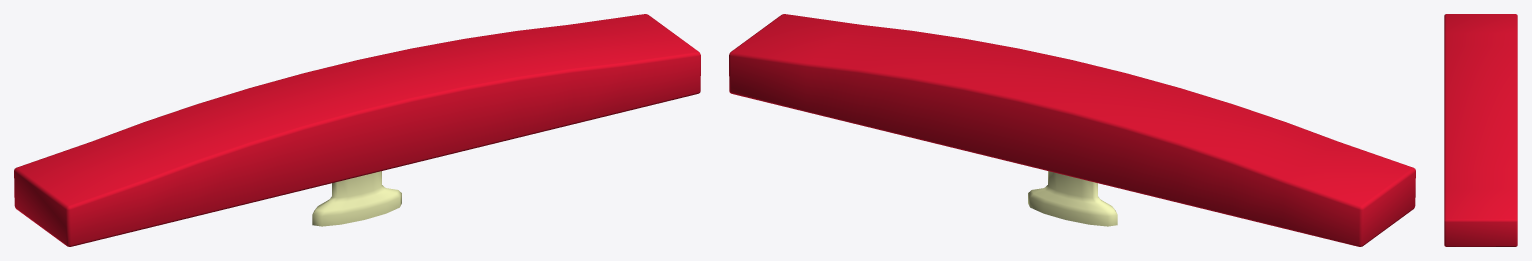
Rendered from PaddleRed.fbx.
3 renders of one model, left to right at view 1: azimuth 30°, elevation 25°; view 2: azimuth 150°, elevation 25°; view 3: azimuth 270°, elevation 25°, orthographic. The views are drawn at different scales.
Parts seen in each view (by area): view 1: paddle, paddleholder; view 2: paddle, paddleholder; view 3: paddle.
Boxes of the visible parts, x1,y1,x2,y2 form: paddle: (14, 14, 700, 246); paddleholder: (312, 171, 401, 226); paddle: (729, 14, 1415, 246); paddleholder: (1028, 171, 1117, 226); paddle: (1444, 14, 1517, 246).
Bounding box in the file's own units: 42.8 × 8.29 × 6.43.
